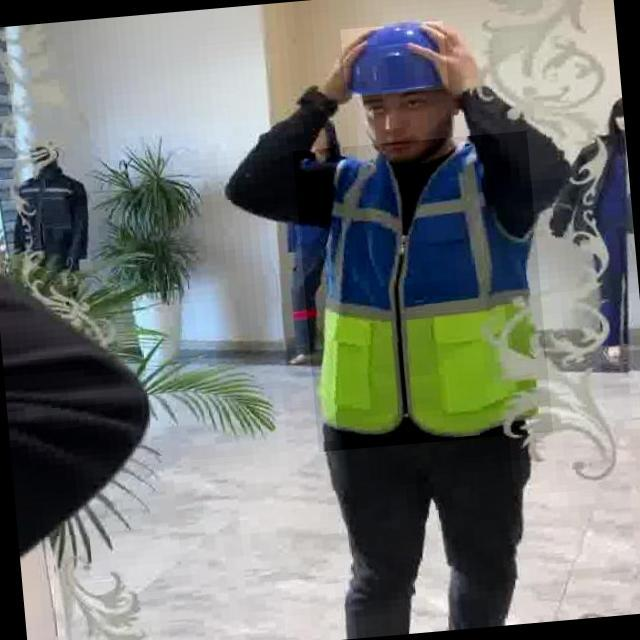Helmet: (340, 20, 449, 97)
Safety Vest: (293, 131, 554, 452)
